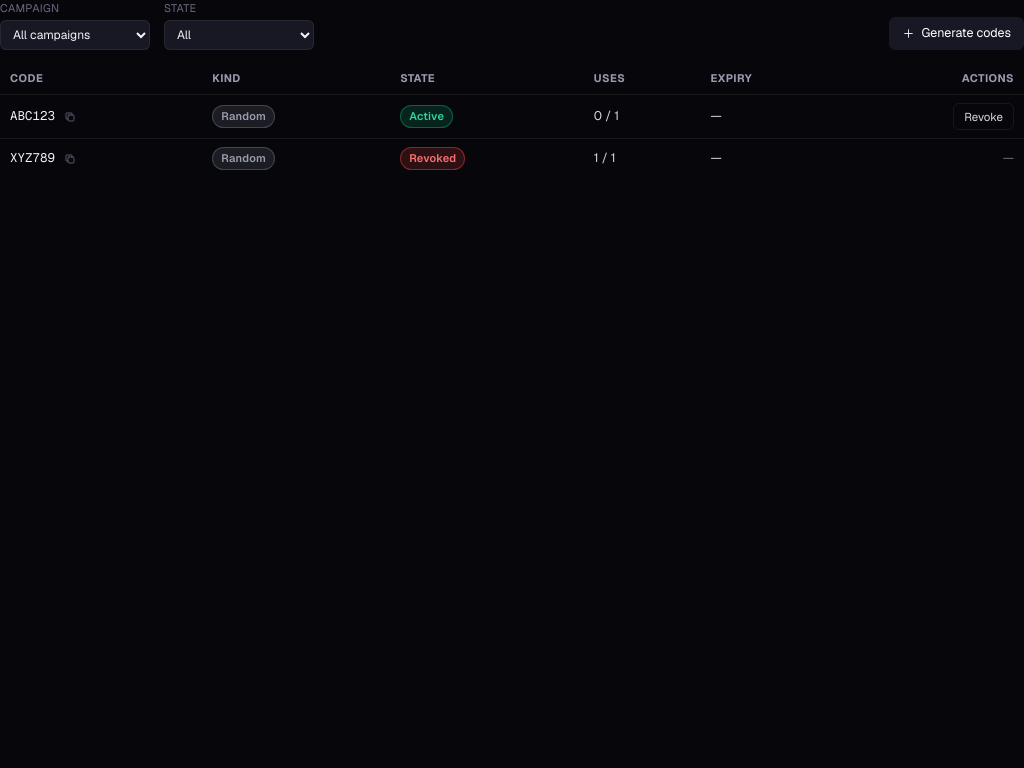
CodesTab › generating a valid batch POSTs the payload and shows the result with export actions
Expected: the row with test id "admin-invitations-codes-row-1" is shown, [0,94,1023,139]
Click the button with test id "admin-invitations-codes-generate-open" at (957, 33), box [890,17,1023,50]
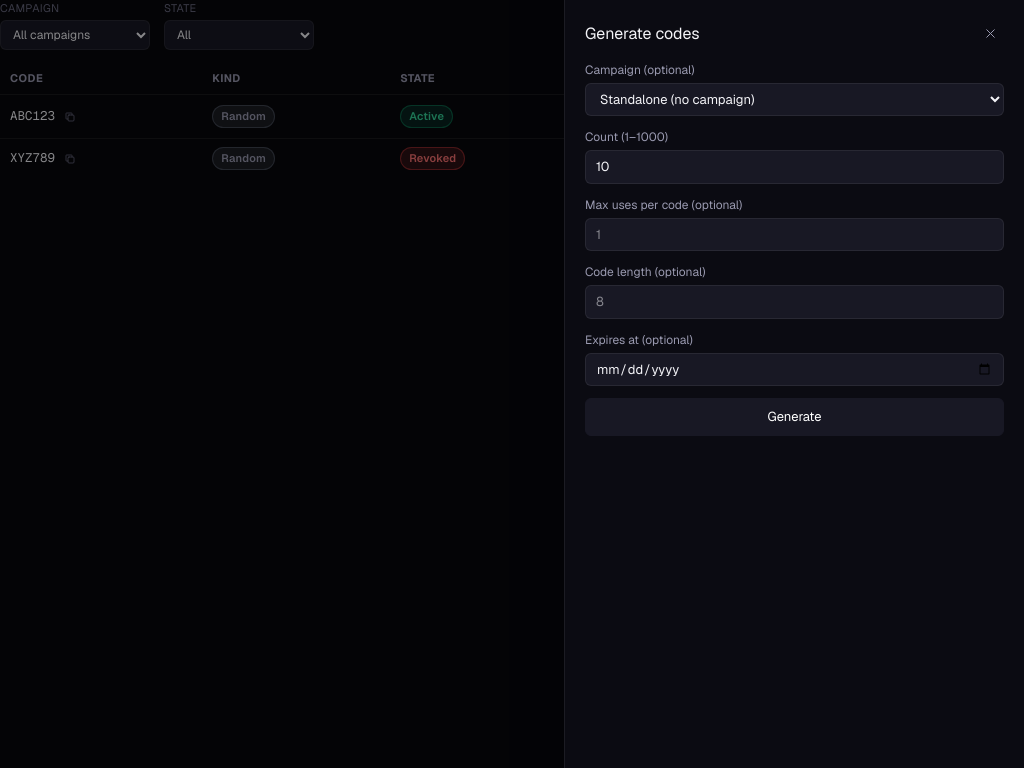
Replace the text in the number field with test id "admin-invitations-codes-generate-count" with "3" at (794, 167), box [585,150,1004,184]
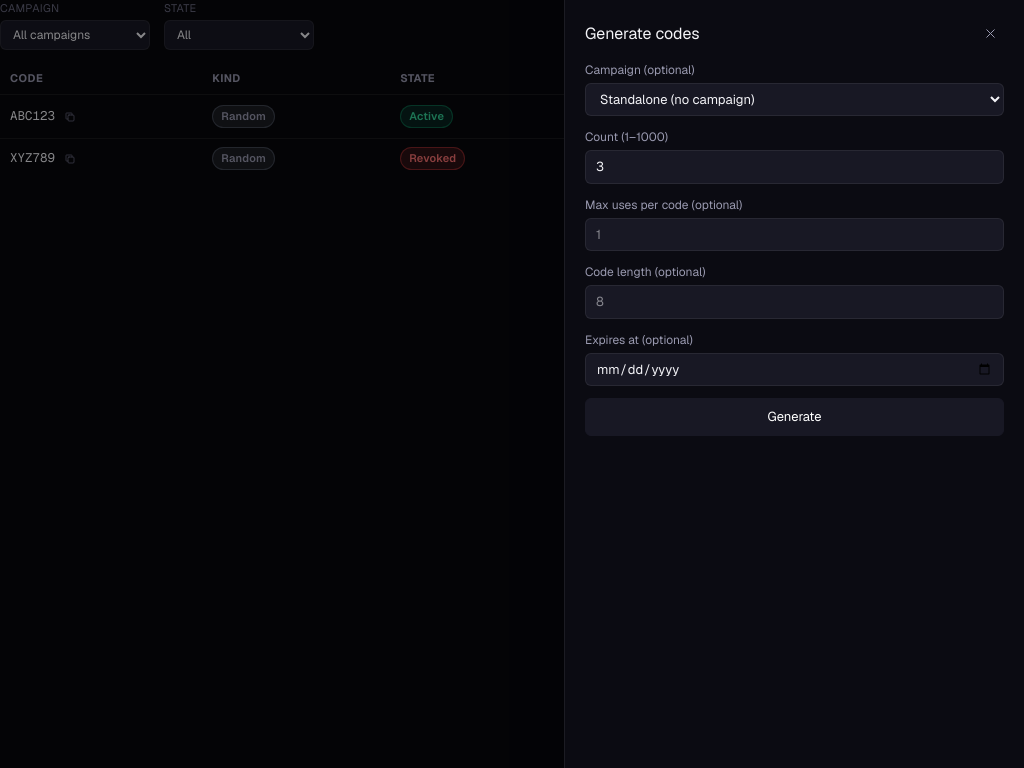
Click the button with test id "admin-invitations-codes-generate-submit" at (794, 417), box [585,398,1004,436]
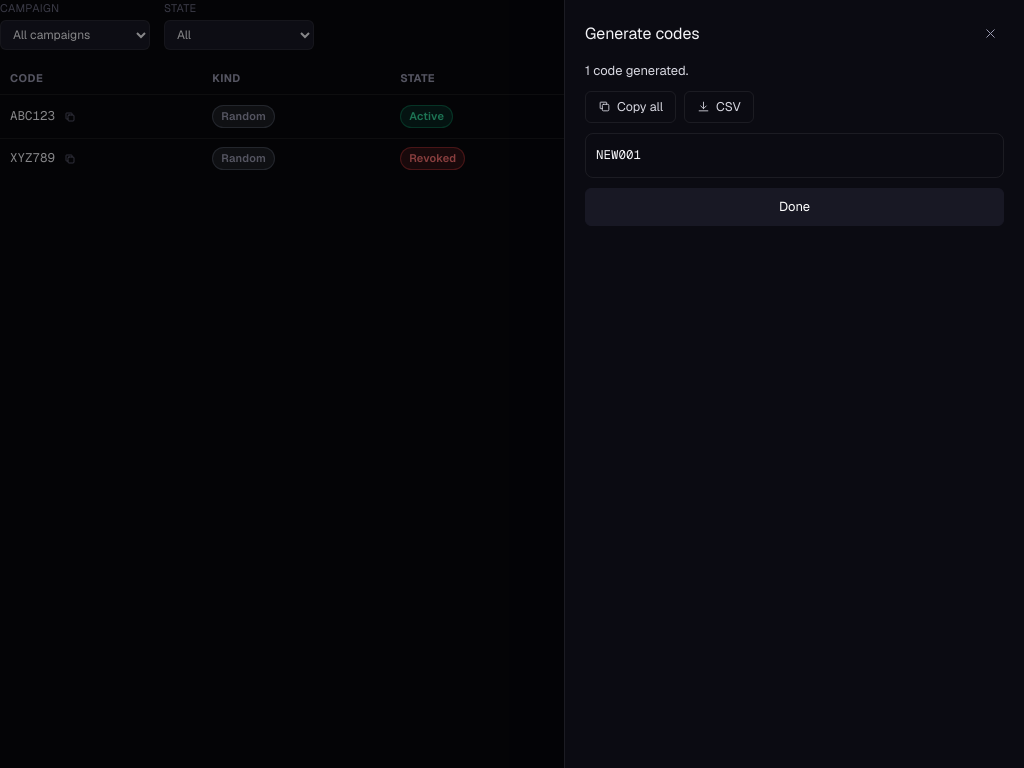
Expected: the element with test id "admin-invitations-codes-generate-result" is shown, [585,61,1004,226]
Expected: the list item with test id "admin-invitations-codes-generate-code-101" reads "NEW001", [596,146,641,163]
Expected: the button with test id "admin-invitations-codes-generate-csv" is shown, [684,90,754,123]
